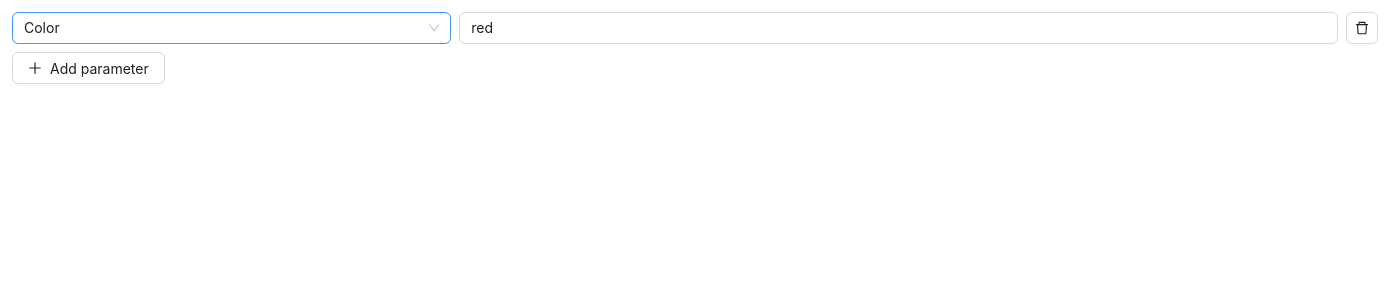
Test case: ParameterRowsEditor › excludes already-used keys from the key select
Check: the text "Color" is shown, box x1=24 y1=19 x2=60 y2=36
Step 1. Click the button "Add parameter" → (88, 68), box x1=12 y1=52 x2=165 y2=84
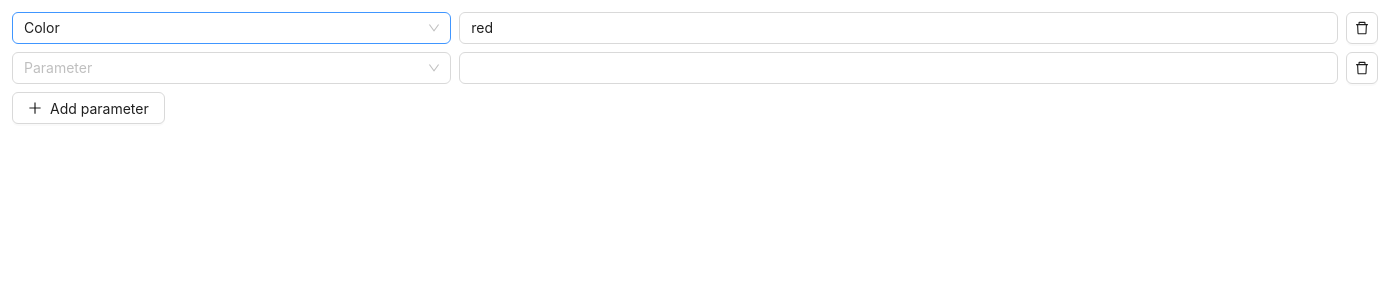
Step 2. Press the mouse on the dropdown labelled "Parameter" → (58, 68), box x1=24 y1=59 x2=92 y2=76
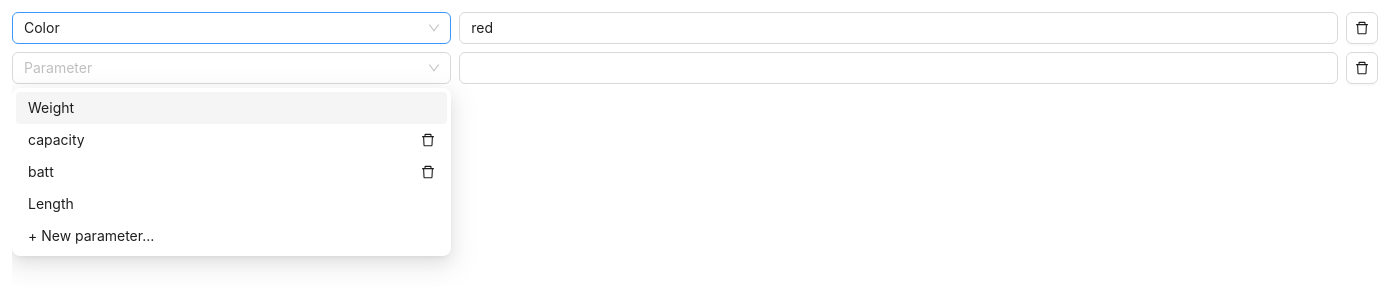
Check: the text "Weight" is shown, box x1=28 y1=97 x2=74 y2=119
Check: the text "capacity" is shown, box x1=28 y1=129 x2=85 y2=151
